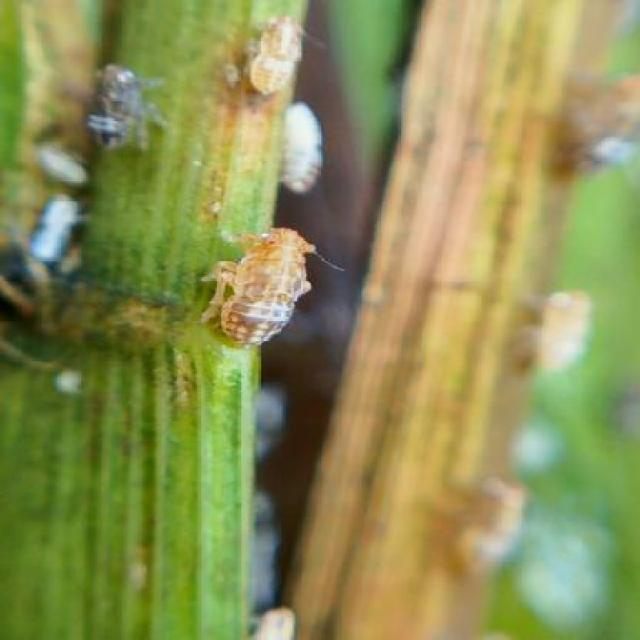wereng pada daun padi: (200, 228, 343, 345), (244, 10, 332, 195), (74, 39, 172, 164)
